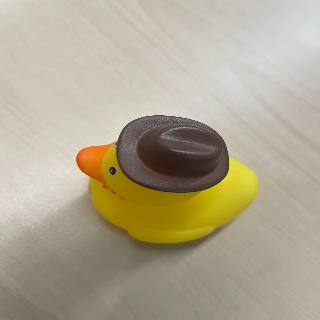duck_specialty: (76, 114, 257, 243)
